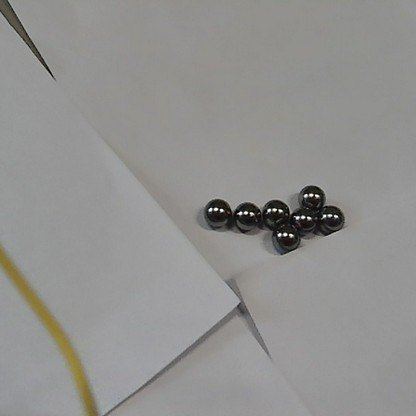ironball: (203, 197, 231, 227), (233, 201, 259, 231), (262, 199, 289, 226), (272, 222, 297, 251), (317, 204, 342, 232), (292, 207, 315, 233), (297, 186, 324, 208)
